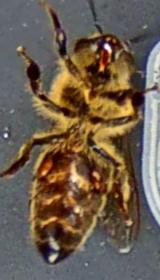varroa_mite: (86, 162, 115, 192), (34, 149, 58, 181)
